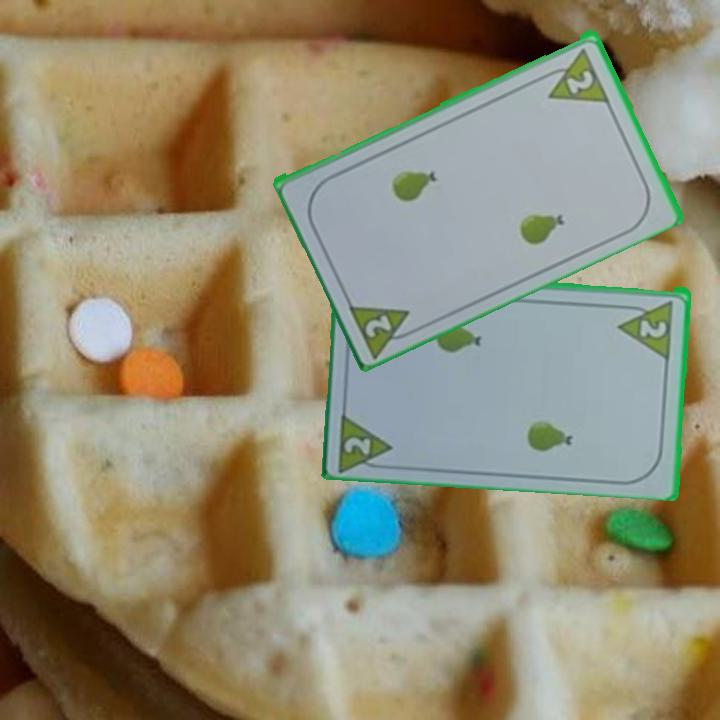2p: (344, 297, 422, 358), (562, 65, 597, 97), (636, 314, 670, 341), (341, 433, 374, 457)
